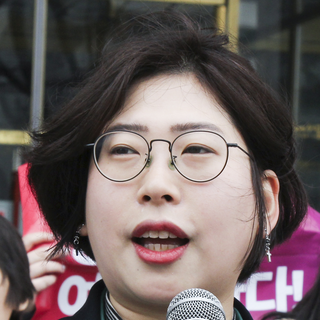eye: (102, 141, 143, 164), (178, 141, 220, 163)
